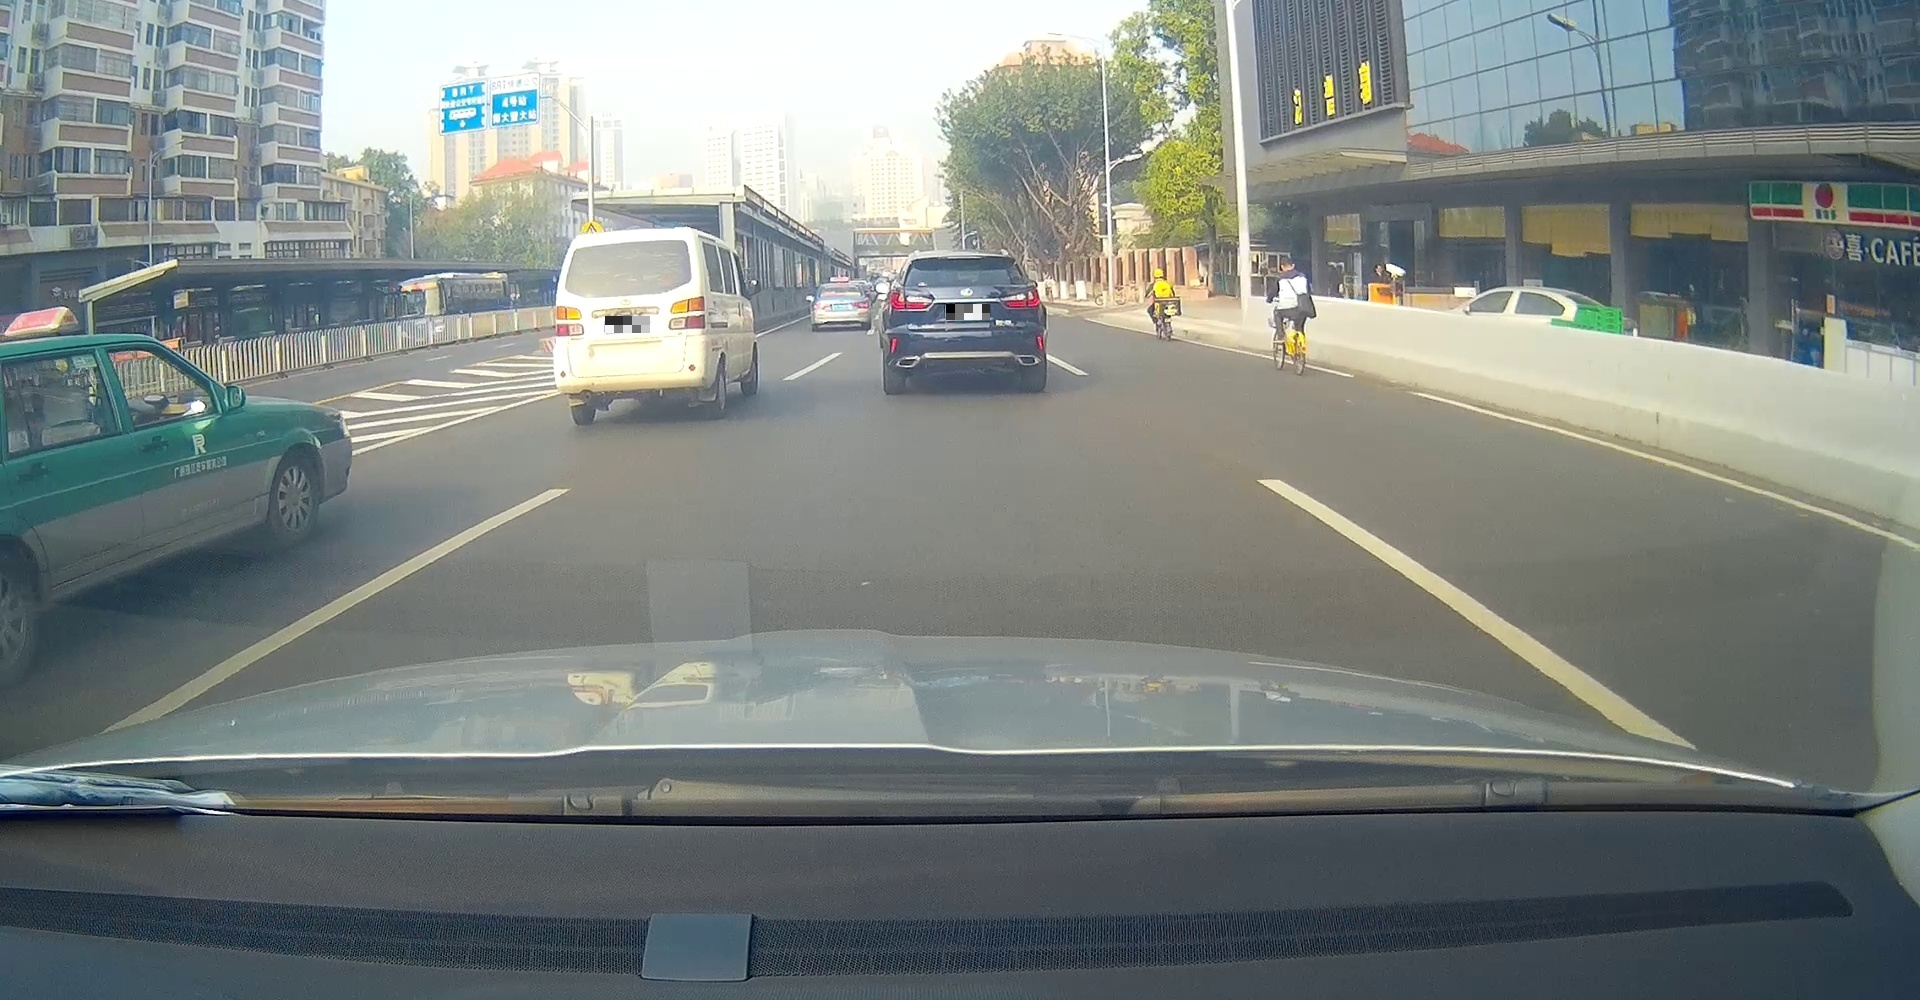L_light: (888, 286, 933, 311), (555, 305, 584, 338)
R_light: (667, 294, 705, 331), (1001, 286, 1043, 308)
T_light: (610, 242, 643, 253), (951, 258, 979, 263)
day-no: (552, 226, 711, 423), (881, 251, 1048, 392)
plate_1: (604, 316, 650, 332)
plate_2: (946, 305, 990, 320)
